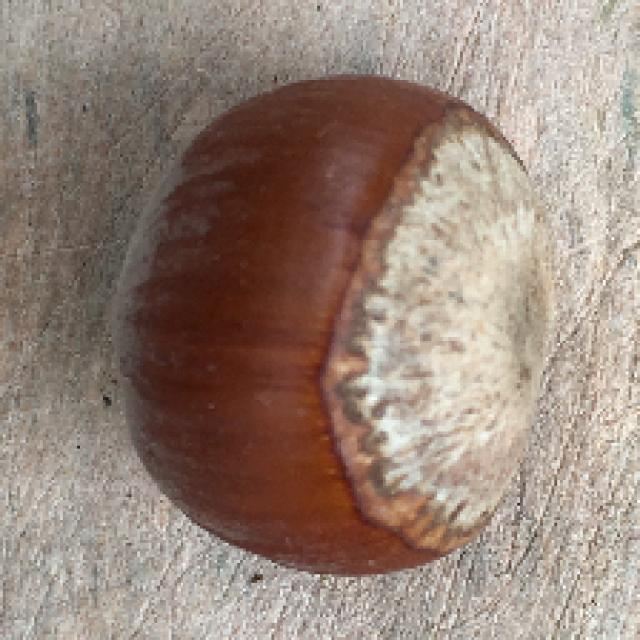qualityHazelnut: (99, 68, 567, 574)
